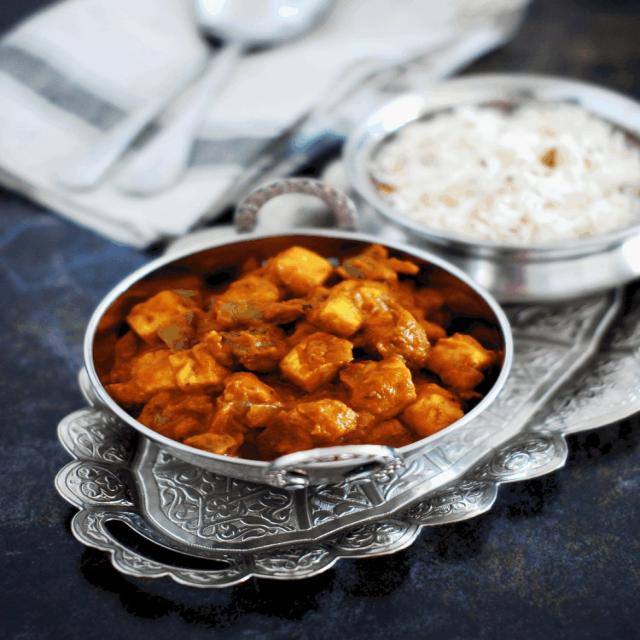panneer: (157, 263, 453, 438)
